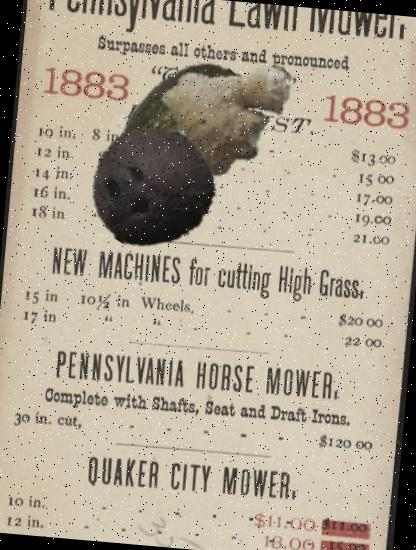Cocos: (84, 119, 221, 256)
Ginger: (156, 32, 302, 180)
Melon: (104, 48, 264, 208)
